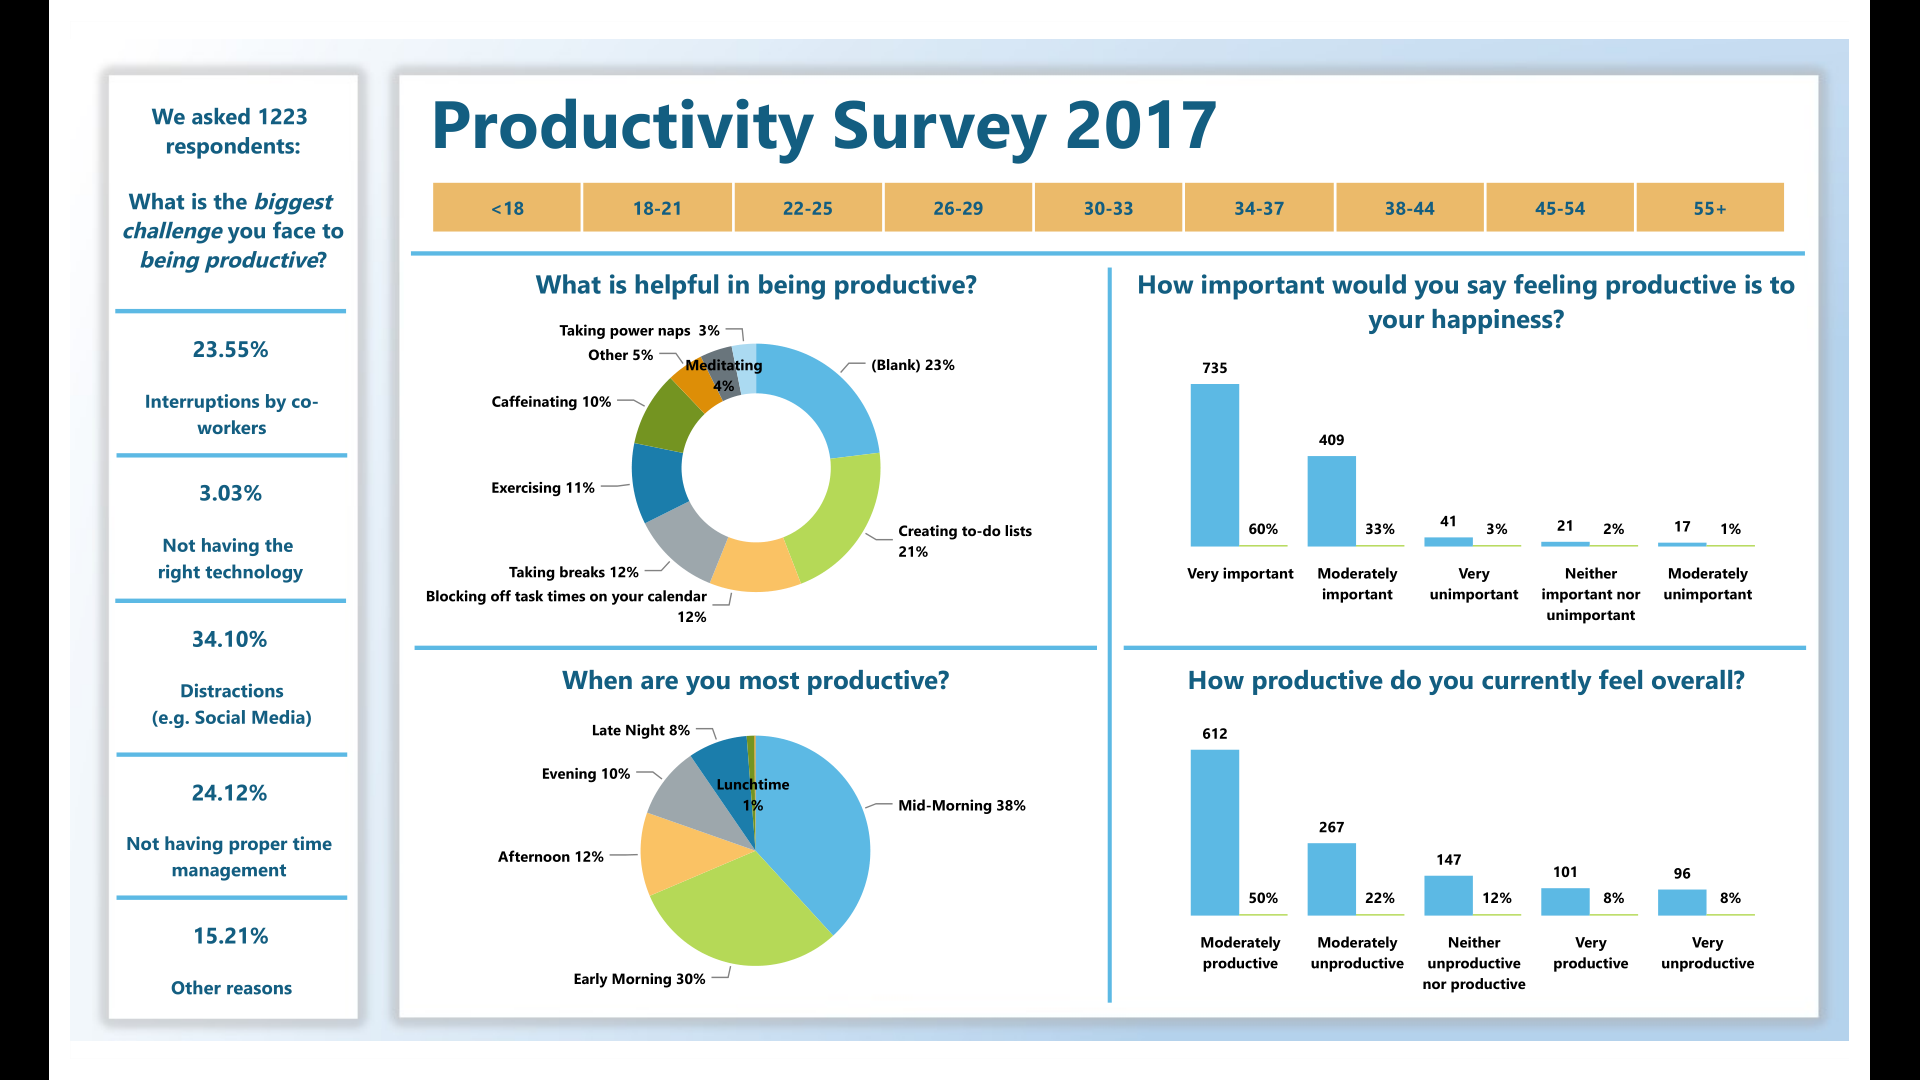

What the dashboard file says about the page in this screenshot:
{"tool":"powerbi","page":{"name":"Productivity Survey","canvas":[1280,720],"ordinal":0},"visuals":[{"type":"textbox","box":[32,244.5,168.6,50.2],"z":0},{"type":"textbox","box":[32,39.2,170.3,155.9],"z":1000},{"type":"card","fields":{"Values":["All Measures.% Challange Interruptions"]},"box":[76.4,199.7,79.5,48.5],"z":2000},{"type":"card","fields":{"Values":["All Measures.% Challenge Right Technology"]},"box":[76.4,303.8,79.2,48.5],"z":3000},{"type":"card","fields":{"Values":["All Measures.% Challenge Distractions"]},"box":[75.4,408.3,79.5,48.5],"z":4000},{"type":"card","fields":{"Values":["All Measures.% Challenge Time Management"]},"box":[75.4,518.5,79.5,48.5],"z":5000},{"type":"card","fields":{"Values":["All Measures.% Challenge Others"]},"box":[76.4,622,79.5,48.5],"z":6000},{"type":"textbox","box":[31,348.6,168.3,50.6],"z":7000},{"type":"textbox","box":[32,453.1,168.6,56.2],"z":8000},{"type":"textbox","box":[32,563.3,168.3,49.5],"z":9000},{"type":"textbox","box":[32,666.8,168.3,36.1],"z":10000},{"type":"basicShape","box":[23.7,609.2,185.8,16.5],"z":11000},{"type":"basicShape","box":[23.7,505.7,185.8,16.5],"z":12000},{"type":"basicShape","box":[22.7,395.5,185.8,16.5],"z":13000},{"type":"basicShape","box":[23.7,291,185.8,16.5],"z":14000},{"type":"basicShape","box":[22.7,186.8,185.8,16.5],"z":15000},{"type":"slicer","title":"Age","fields":{"Values":["ProductivitySurvey2017.Age"]},"box":[235.5,96,1022.4,49.5],"z":16000},{"type":"textbox","box":[254.4,20.8,589.9,88.1],"z":17000},{"type":"basicShape","box":[235.4,145.5,1023,16.5],"z":18000},{"type":"basicShape","box":[742.2,153.8,12.4,549.2],"z":19000},{"type":"basicShape","box":[748.4,428.4,511,18.6],"z":20000},{"type":"basicShape","box":[237.4,428.4,511,18.6],"z":21000},{"type":"clusteredColumnChart","title":"How productive do you currently feel overall?","fields":{"Category":["ProductivitySurvey2017.How productive do you currently feel overall?"],"Y":["CountNonNull(ProductivitySurvey2017.RespondentID)","Divide(CountNonNull(ProductivitySurvey2017.RespondentID), ScopedEval(CountNonNull(ProductivitySurvey2017.RespondentID), "]},"box":[757.1,447.3,495.8,247.4],"z":22000},{"type":"pieChart","title":"When are you most productive?","fields":{"Category":["ProductivitySurvey2017.When are you most productive?"],"Y":["CountNonNull(ProductivitySurvey2017.RespondentID)"]},"box":[245.7,447,495.5,247.7],"z":23000},{"type":"clusteredColumnChart","title":"How important would you say feeling productive is to your happiness?","fields":{"Category":["ProductivitySurvey2017.How important would you say feeling productive is to your happiness?"],"Y":["CountNonNull(ProductivitySurvey2017.RespondentID)","Divide(CountNonNull(ProductivitySurvey2017.RespondentID), ScopedEval(CountNonNull(ProductivitySurvey2017.RespondentID), "]},"box":[757.1,162.3,495.8,266.2],"z":24000},{"type":"donutChart","title":"What is helpful in being productive?","fields":{"Category":["Most Helpful.helpful"],"Y":["CountNonNull(Most Helpful.RespondentID)"]},"box":[245.4,162.3,495.8,266.2],"z":25000}]}

Visuals, with their boxes in screenshot pixels (x1, y1, x2, y2), scaled from the page's 1280x720 canvas onto the 1920x1080 screenshot:
textbox: rect(48, 367, 301, 442)
textbox: rect(48, 59, 303, 293)
card - All Measures.% Challange Interruptions: rect(115, 300, 234, 372)
card - All Measures.% Challenge Right Technology: rect(115, 456, 233, 528)
card - All Measures.% Challenge Distractions: rect(113, 612, 232, 685)
card - All Measures.% Challenge Time Management: rect(113, 778, 232, 850)
card - All Measures.% Challenge Others: rect(115, 933, 234, 1006)
textbox: rect(46, 523, 299, 599)
textbox: rect(48, 680, 301, 764)
textbox: rect(48, 845, 300, 919)
textbox: rect(48, 1000, 300, 1054)
basicShape: rect(36, 914, 314, 939)
basicShape: rect(36, 759, 314, 783)
basicShape: rect(34, 593, 313, 618)
basicShape: rect(36, 436, 314, 461)
basicShape: rect(34, 280, 313, 305)
"Age" slicer: rect(353, 144, 1887, 218)
textbox: rect(382, 31, 1266, 163)
basicShape: rect(353, 218, 1888, 243)
basicShape: rect(1113, 231, 1132, 1054)
basicShape: rect(1123, 643, 1889, 670)
basicShape: rect(356, 643, 1123, 670)
"How productive do you currently feel overall?" clusteredColumnChart: rect(1136, 671, 1879, 1042)
"When are you most productive?" pieChart: rect(369, 670, 1112, 1042)
"How important would you say feeling productive is to your happiness?" clusteredColumnChart: rect(1136, 243, 1879, 643)
"What is helpful in being productive?" donutChart: rect(368, 243, 1112, 643)
